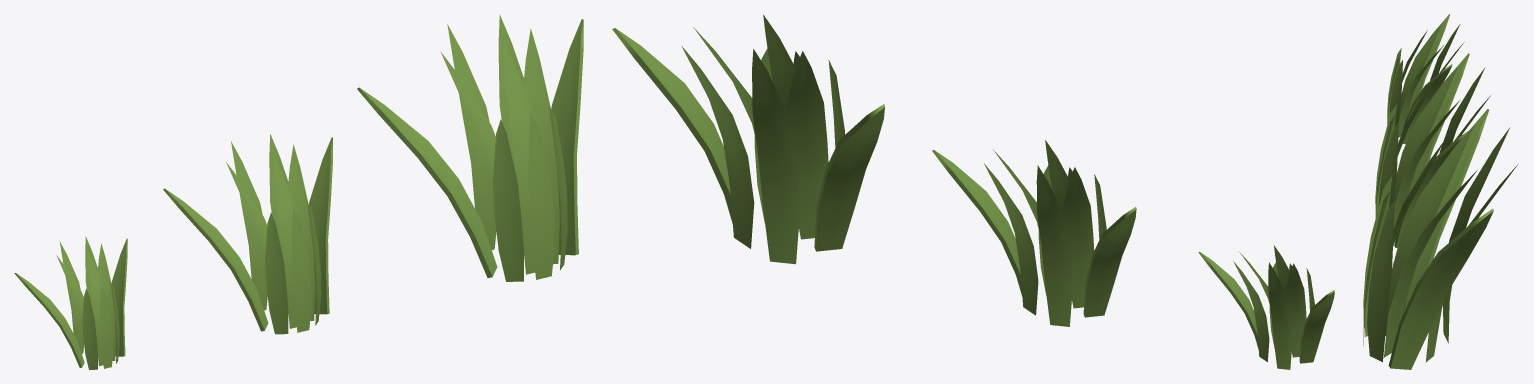
The model's file is grass2.fbx.
3 views of the same model, side by side, from view 1: azimuth 30°, elevation 25°; view 2: azimuth 150°, elevation 25°; view 3: azimuth 270°, elevation 25° (orthographic). The views are drawn at different scales.
Visible parts, largest first — view 1: grass_GEO46 (×3), grass_GEO44 (×3), grass_GEO42 (×3), grass_GEO39 (×3), grass_GEO40 (×3), grass_GEO43 (×3), grass_GEO47 (×3), grass_GEO48 (×2), grass_GEO45 (×2), grass_GEO41 (×2); view 2: grass_GEO43 (×3), grass_GEO44 (×3), grass_GEO48 (×3), grass_GEO46 (×3), grass_GEO45 (×3), grass_GEO40 (×2), grass_GEO42, grass_GEO47; view 3: grass_GEO46 (×3), grass_GEO48 (×3), grass_GEO41 (×3), grass_GEO44 (×3), grass_GEO47 (×3), grass_GEO43 (×3), grass_GEO42 (×3), grass_GEO40 (×3), grass_GEO39 (×2), grass_GEO45.
Boxes of the visible parts, x1=… form: grass_GEO46 (×3): x1=111, y1=19, x2=583, y2=356; grass_GEO44 (×3): x1=14, y1=87, x2=497, y2=367; grass_GEO42 (×3): x1=82, y1=119, x2=523, y2=369; grass_GEO39 (×3): x1=100, y1=113, x2=554, y2=368; grass_GEO40 (×3): x1=87, y1=42, x2=537, y2=366; grass_GEO43 (×3): x1=59, y1=24, x2=496, y2=353; grass_GEO47 (×3): x1=97, y1=28, x2=559, y2=360; grass_GEO48 (×2): x1=226, y1=51, x2=495, y2=255; grass_GEO45 (×2): x1=269, y1=14, x2=523, y2=257; grass_GEO41 (×2): x1=307, y1=106, x2=567, y2=325; grass_GEO43 (×3): x1=752, y1=49, x2=1292, y2=369; grass_GEO44 (×3): x1=814, y1=104, x2=1334, y2=363; grass_GEO48 (×3): x1=786, y1=51, x2=1306, y2=357; grass_GEO46 (×3): x1=612, y1=28, x2=1258, y2=348; grass_GEO45 (×3): x1=681, y1=46, x2=1269, y2=362; grass_GEO40 (×2): x1=763, y1=14, x2=1069, y2=228; grass_GEO42: x1=828, y1=60, x2=845, y2=147; grass_GEO47: x1=693, y1=27, x2=755, y2=138; grass_GEO46 (×3): x1=1388, y1=64, x2=1493, y2=369; grass_GEO48 (×3): x1=1385, y1=22, x2=1474, y2=335; grass_GEO41 (×3): x1=1367, y1=60, x2=1402, y2=362; grass_GEO44 (×3): x1=1402, y1=14, x2=1488, y2=315; grass_GEO47 (×3): x1=1383, y1=44, x2=1477, y2=357; grass_GEO43 (×3): x1=1430, y1=24, x2=1510, y2=343; grass_GEO42 (×3): x1=1363, y1=48, x2=1401, y2=336; grass_GEO40 (×3): x1=1393, y1=30, x2=1444, y2=246; grass_GEO39 (×2): x1=1363, y1=115, x2=1395, y2=345; grass_GEO45: x1=1425, y1=164, x2=1517, y2=362.
Bounding box in the file's own units: 115 × 39.02 × 26.13.
